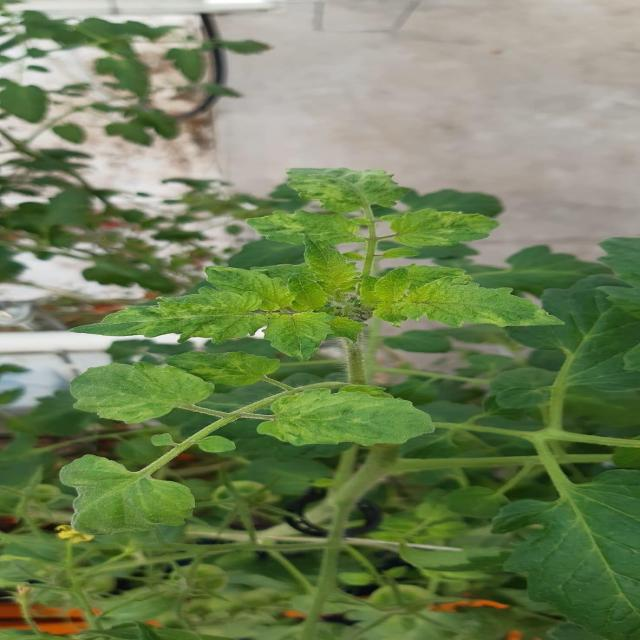T_L_H: (494, 471, 640, 640)
T_L_R: (510, 276, 640, 392), (72, 288, 266, 343), (61, 456, 196, 535), (257, 390, 434, 447), (374, 276, 562, 328), (69, 363, 213, 425), (386, 210, 499, 249), (247, 211, 367, 246), (166, 352, 283, 387), (208, 267, 296, 312), (304, 237, 361, 296), (264, 314, 334, 362), (491, 369, 559, 410), (361, 269, 413, 315), (288, 274, 329, 312)
T_S_R: (142, 412, 242, 477)
